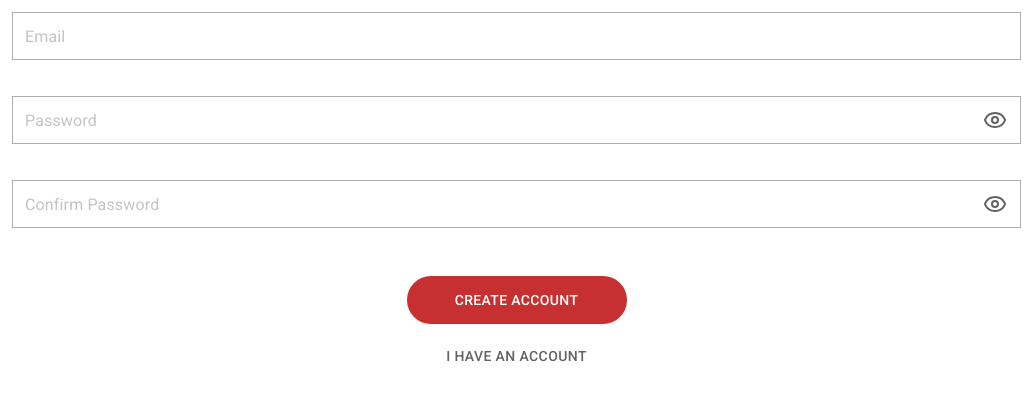
Test case: SignupForm Component › should display a validation error when passwords do not match
Type "test@example.com" into the field with placeholder "Email".
click(516, 36); type("test@example.com")  # box top-left (12, 12), bottom-right (1021, 60)
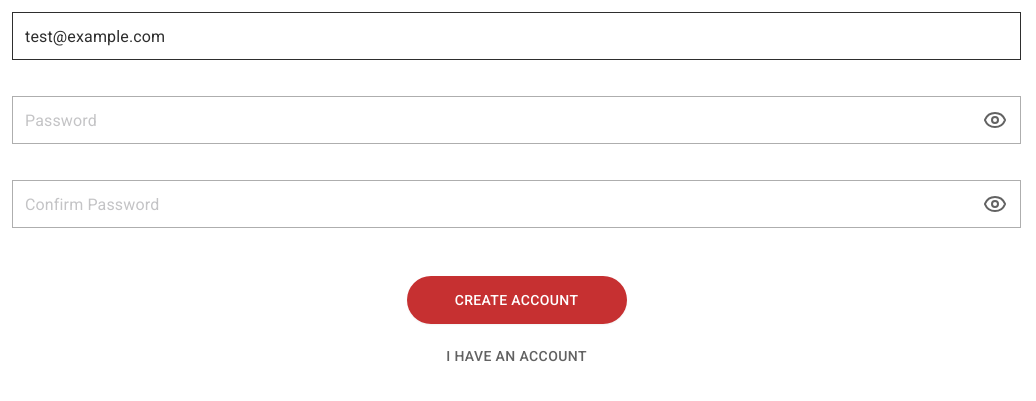
Type "password123" into the password field with placeholder "Password".
click(516, 120); type("password123")  # box top-left (12, 96), bottom-right (1021, 144)
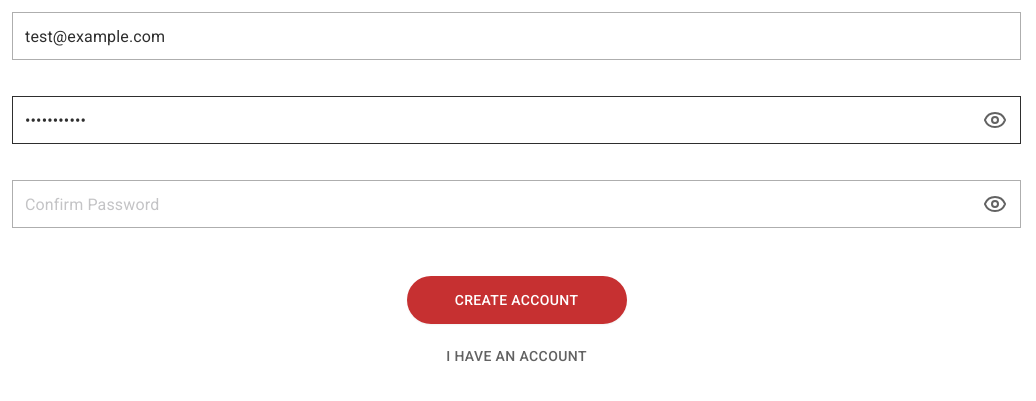
Type "differentpassword" into the password field with placeholder "Confirm Password".
click(516, 204); type("differentpassword")  # box top-left (12, 180), bottom-right (1021, 228)
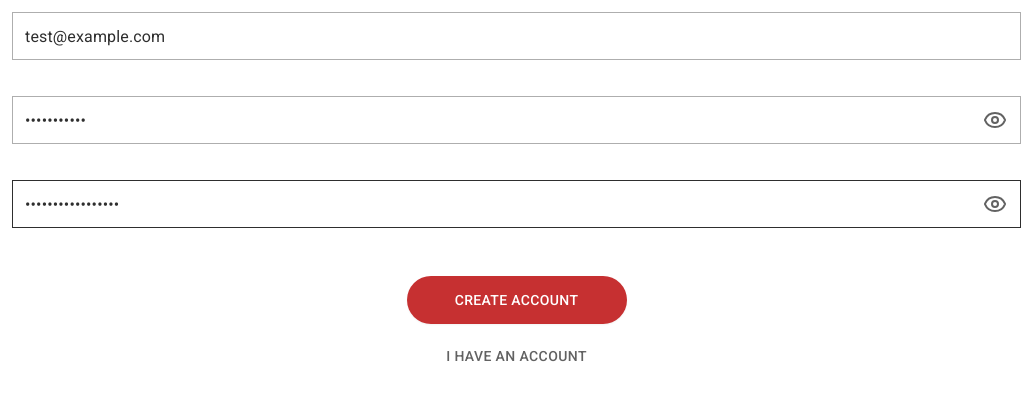
Click the button "CREATE ACCOUNT".
click(516, 300)  # box top-left (406, 276), bottom-right (626, 324)
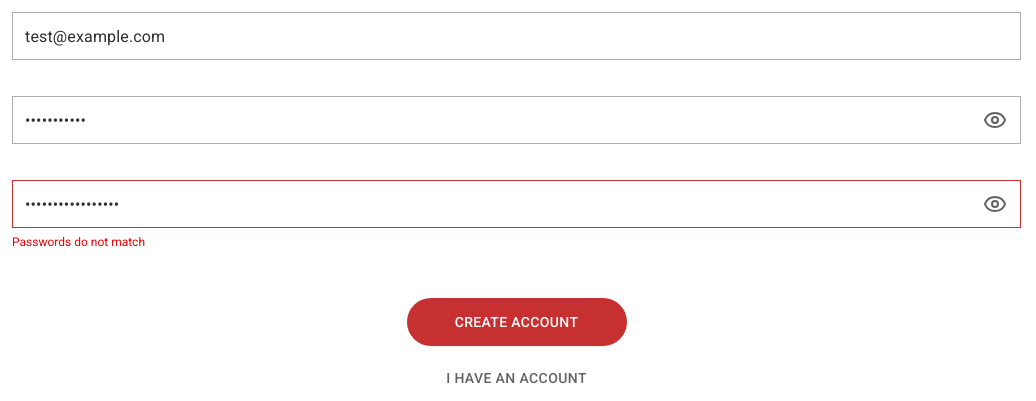
Now the text "Passwords do not match" is shown, box top-left (12, 235), bottom-right (145, 249)
